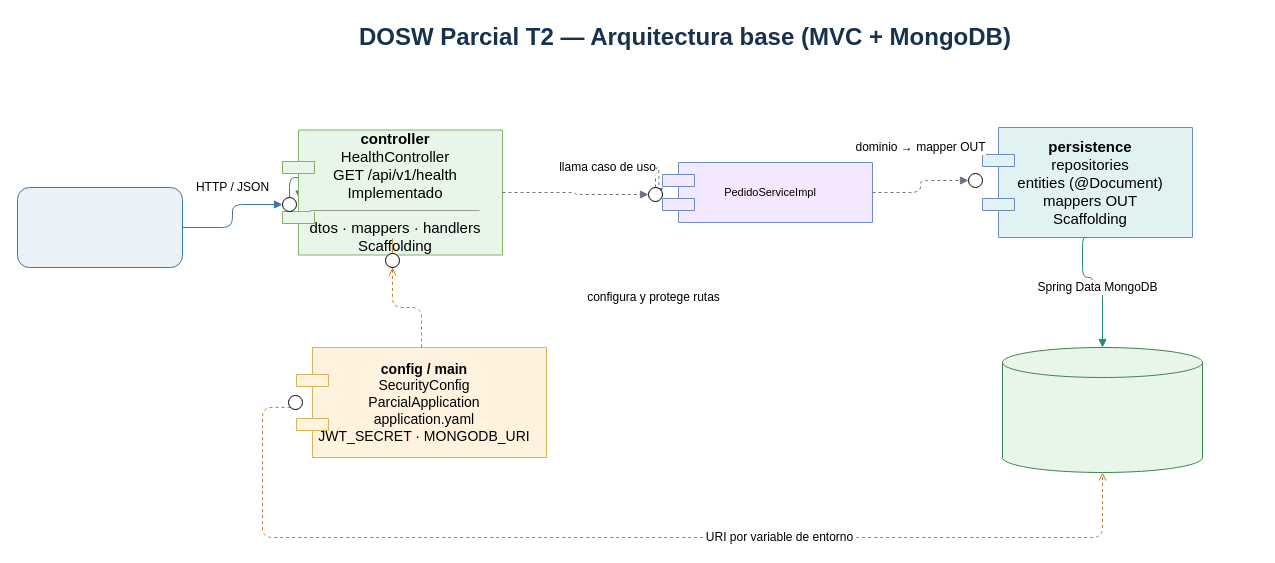
Image size: 1275x563. Some labels were removed from this diagram. The shapes that lost their labels are listed below. From the top down, each one's centre as x and y in pixels, then its label:
(99,227): Cliente Navegador / consumidor REST
(1102,409): MongoDB Atlas Cluster dosw-cluster Base dosw_parcial
